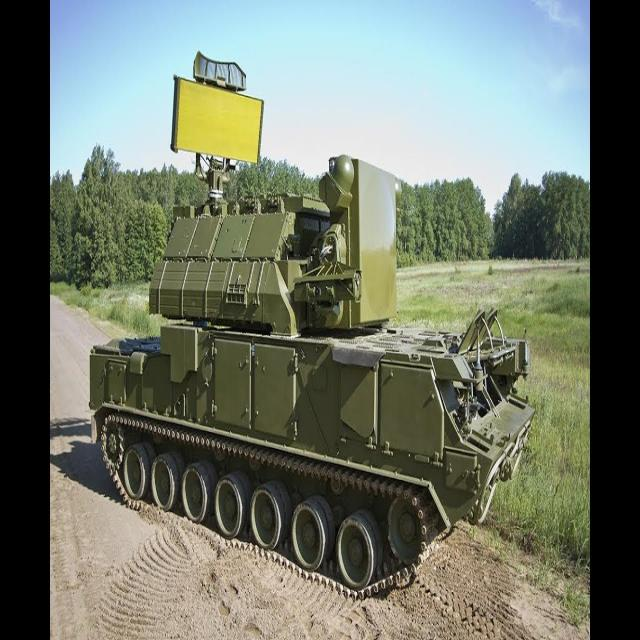MIL_EW_RDR: (84, 74, 527, 595)
